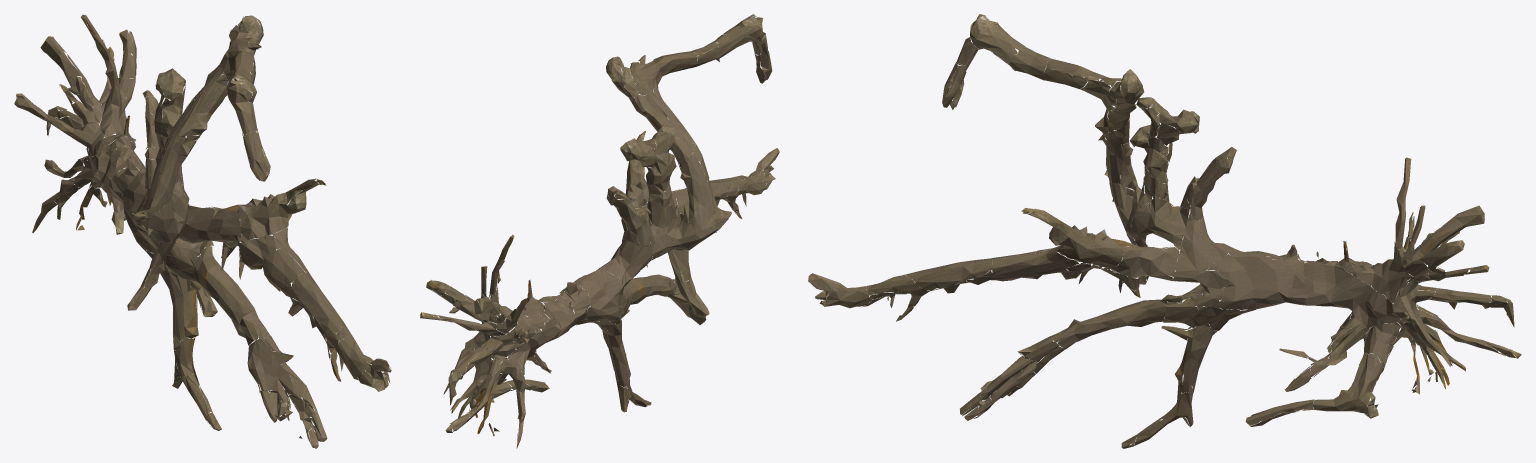
Rendered from branch_1_compressed.glb.
3 renders of one model, left to right at view 1: azimuth 30°, elevation 25°; view 2: azimuth 150°, elevation 25°; view 3: azimuth 270°, elevation 25°, orthographic. The views are drawn at different scales.
Parts seen in each view (by area): view 1: tripo_node_032778fb-3abb-4791-8e3c-bf08450afe39; view 2: tripo_node_032778fb-3abb-4791-8e3c-bf08450afe39; view 3: tripo_node_032778fb-3abb-4791-8e3c-bf08450afe39.
Boxes of the visible parts, x1,y1,x2,y2 form: tripo_node_032778fb-3abb-4791-8e3c-bf08450afe39: [14, 14, 391, 448]; tripo_node_032778fb-3abb-4791-8e3c-bf08450afe39: [420, 14, 779, 448]; tripo_node_032778fb-3abb-4791-8e3c-bf08450afe39: [808, 14, 1521, 448].
Bounding box in the file's own units: 0.2854 × 0.6291 × 1.
Materials: 1 (1 with a texture image).
